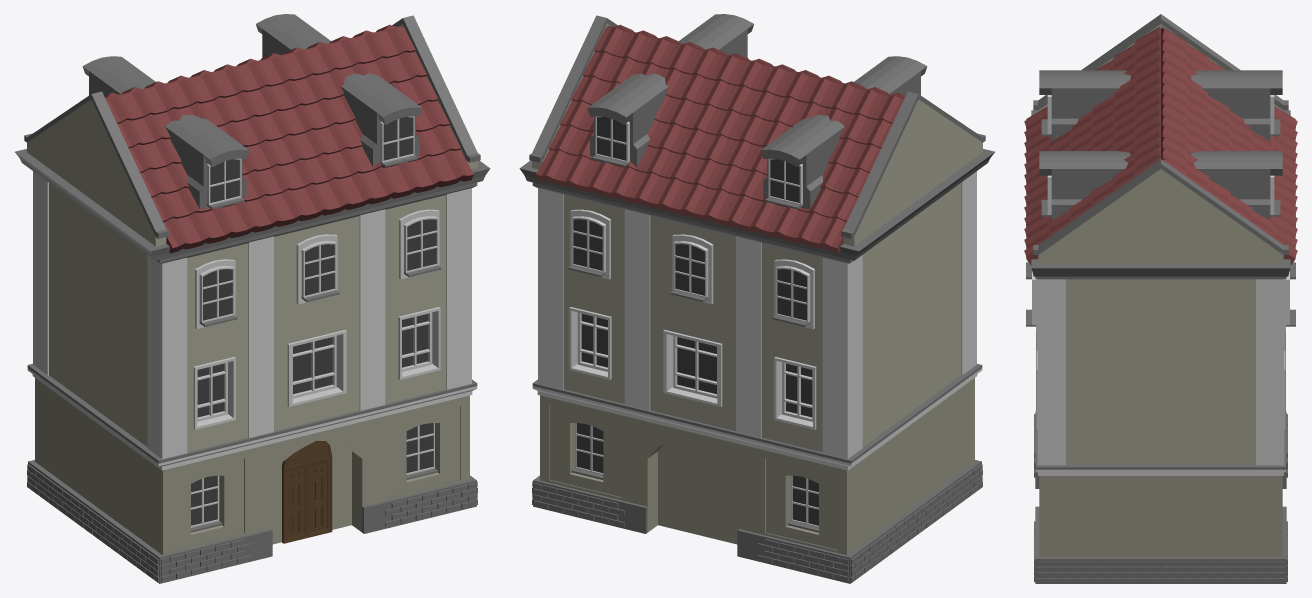
Rendered from Building1_Small.glb.
The picture shows the model from 3 angles, left to right: view 1: azimuth 30°, elevation 25°; view 2: azimuth 150°, elevation 25°; view 3: azimuth 270°, elevation 25°; orthographic projection. The views are drawn at different scales.
Parts seen in each view (by area): view 1: Building1_Small_Plane.003; view 2: Building1_Small_Plane.003; view 3: Building1_Small_Plane.003.
Part boxes in pixels (left/top/right/bottom): Building1_Small_Plane.003: left=15, top=14, right=490, bottom=583; Building1_Small_Plane.003: left=519, top=14, right=994, bottom=583; Building1_Small_Plane.003: left=1024, top=14, right=1297, bottom=583.
Bounding box in the file's own units: 3.75 × 4.66 × 2.74.
